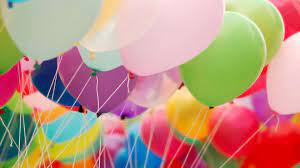Balloon: (179, 16, 265, 104), (122, 1, 222, 75), (4, 1, 102, 63), (267, 32, 300, 113), (209, 104, 258, 153), (164, 93, 209, 137)
